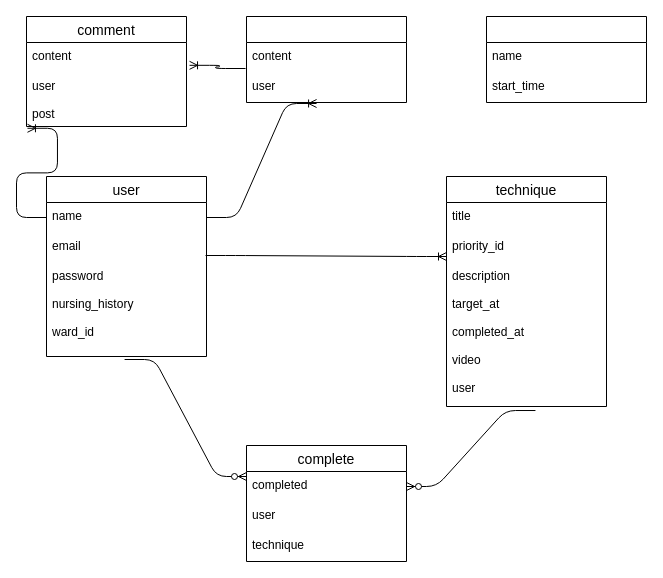
Some shapes in this 663 by 578 pixel diagram are drawn without their labels. Each missing label, with the box of its shape:
meeting: (486, 16, 646, 102)
post: (246, 16, 406, 102)
